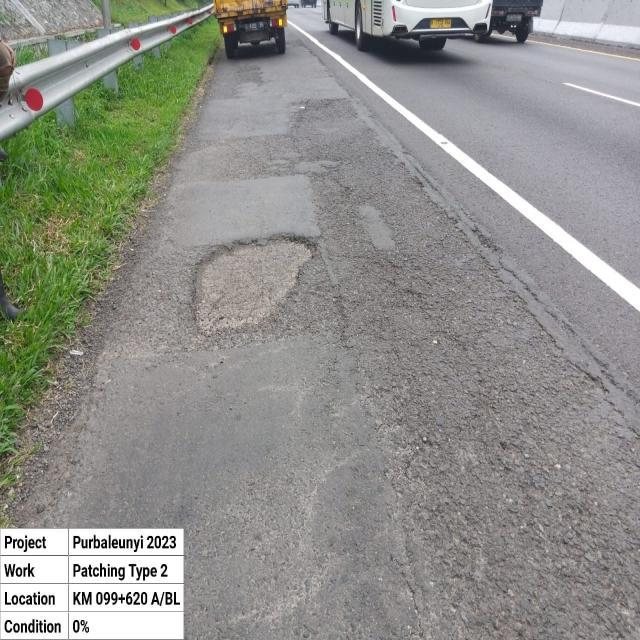Buraco: (186, 230, 324, 340)
